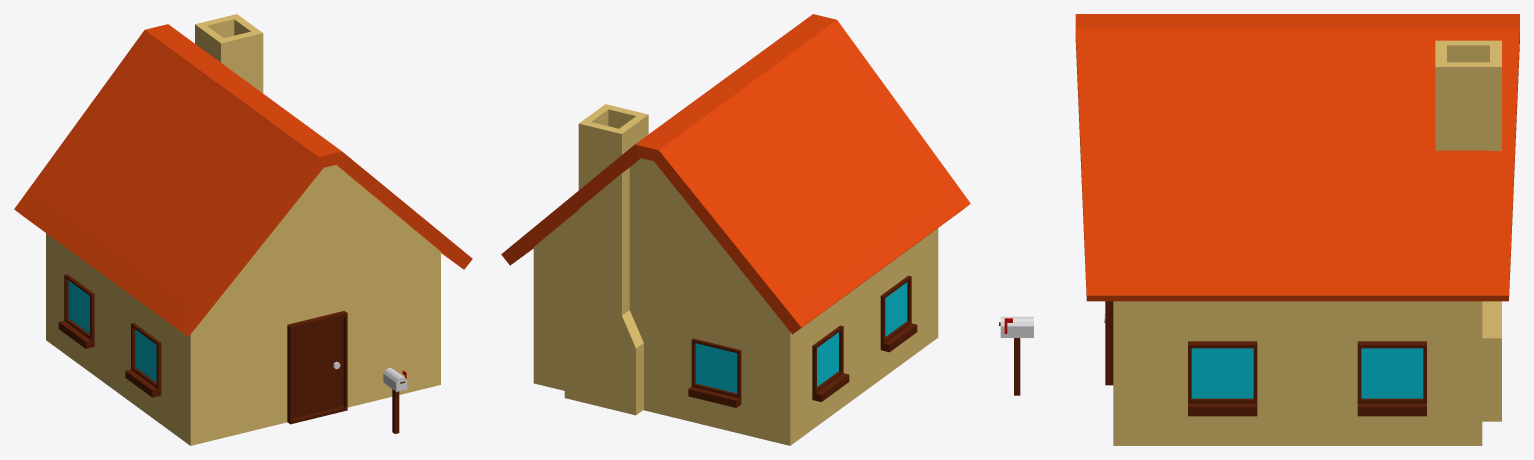
The model's file is house.glb.
The picture shows the model from 3 angles, left to right: view 1: azimuth 30°, elevation 25°; view 2: azimuth 150°, elevation 25°; view 3: azimuth 270°, elevation 25°; orthographic projection. The views are drawn at different scales.
Visible parts, largest first — view 1: Cube, Cube.002, Cube.001, Cube.013, Cube.012; view 2: Cube, Cube.001, Cube.005, Cube.012, Cube.013; view 3: Cube, Cube.001, Cube.003, Cube.008, Cube.002, Cube.009.
Part boxes in pixels (bbox=[...]): Cube: bbox=[14, 24, 472, 445]; Cube.002: bbox=[287, 311, 347, 424]; Cube.001: bbox=[195, 14, 263, 93]; Cube.013: bbox=[58, 274, 94, 348]; Cube.012: bbox=[125, 323, 161, 397]; Cube: bbox=[501, 14, 970, 445]; Cube.001: bbox=[564, 104, 648, 415]; Cube.005: bbox=[688, 338, 741, 407]; Cube.012: bbox=[880, 275, 917, 352]; Cube.013: bbox=[812, 325, 849, 401]; Cube: bbox=[1075, 14, 1519, 445]; Cube.001: bbox=[1435, 40, 1501, 421]; Cube.003: bbox=[1188, 341, 1257, 416]; Cube.008: bbox=[1357, 341, 1426, 416]; Cube.002: bbox=[1105, 301, 1113, 385]; Cube.009: bbox=[1000, 316, 1033, 337].
Size of the model in its own units: 2.34 by 2.07 by 2.82.
